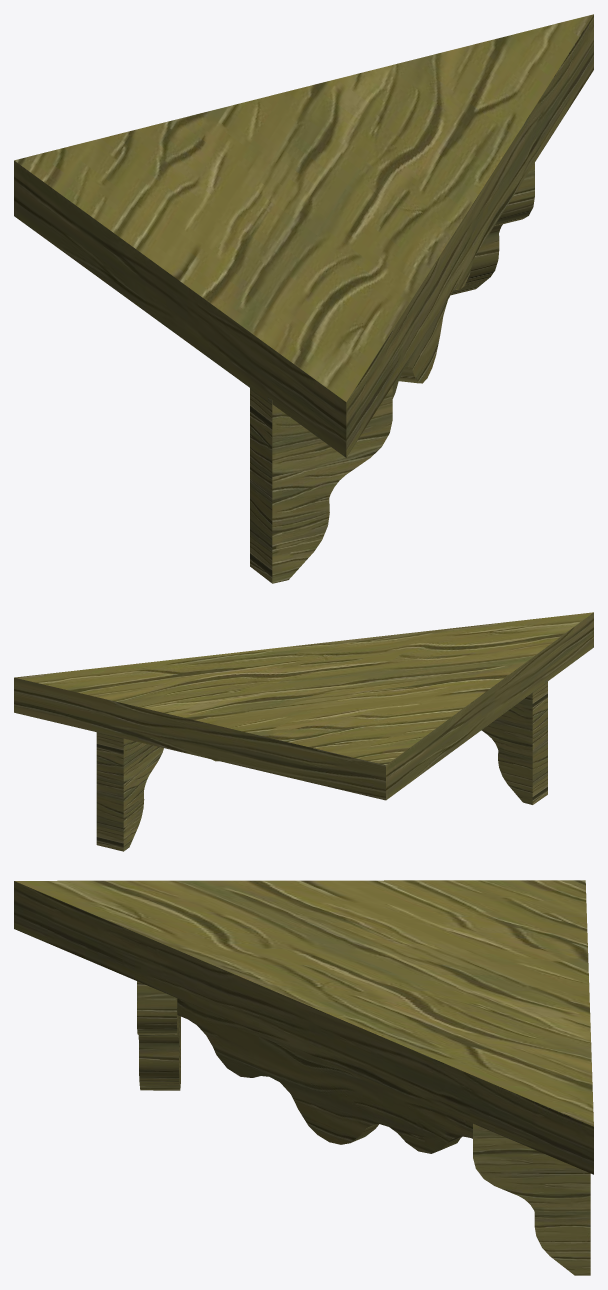
The model's file is Shelf ugol.fbx.
3 views of the same model, one above another, from view 1: azimuth 30°, elevation 25°; view 2: azimuth 150°, elevation 25°; view 3: azimuth 270°, elevation 25° (orthographic). The views are drawn at different scales.
Parts seen in each view (by area): view 1: Shelf ugol; view 2: Shelf ugol; view 3: Shelf ugol.
Boxes of the visible parts, bbox=[...] form: Shelf ugol: bbox=[14, 14, 593, 583]; Shelf ugol: bbox=[14, 612, 593, 851]; Shelf ugol: bbox=[14, 880, 593, 1275].
Bounding box in the file's own units: 35.18 × 13.53 × 34.99.
1 material, 1 textured.
